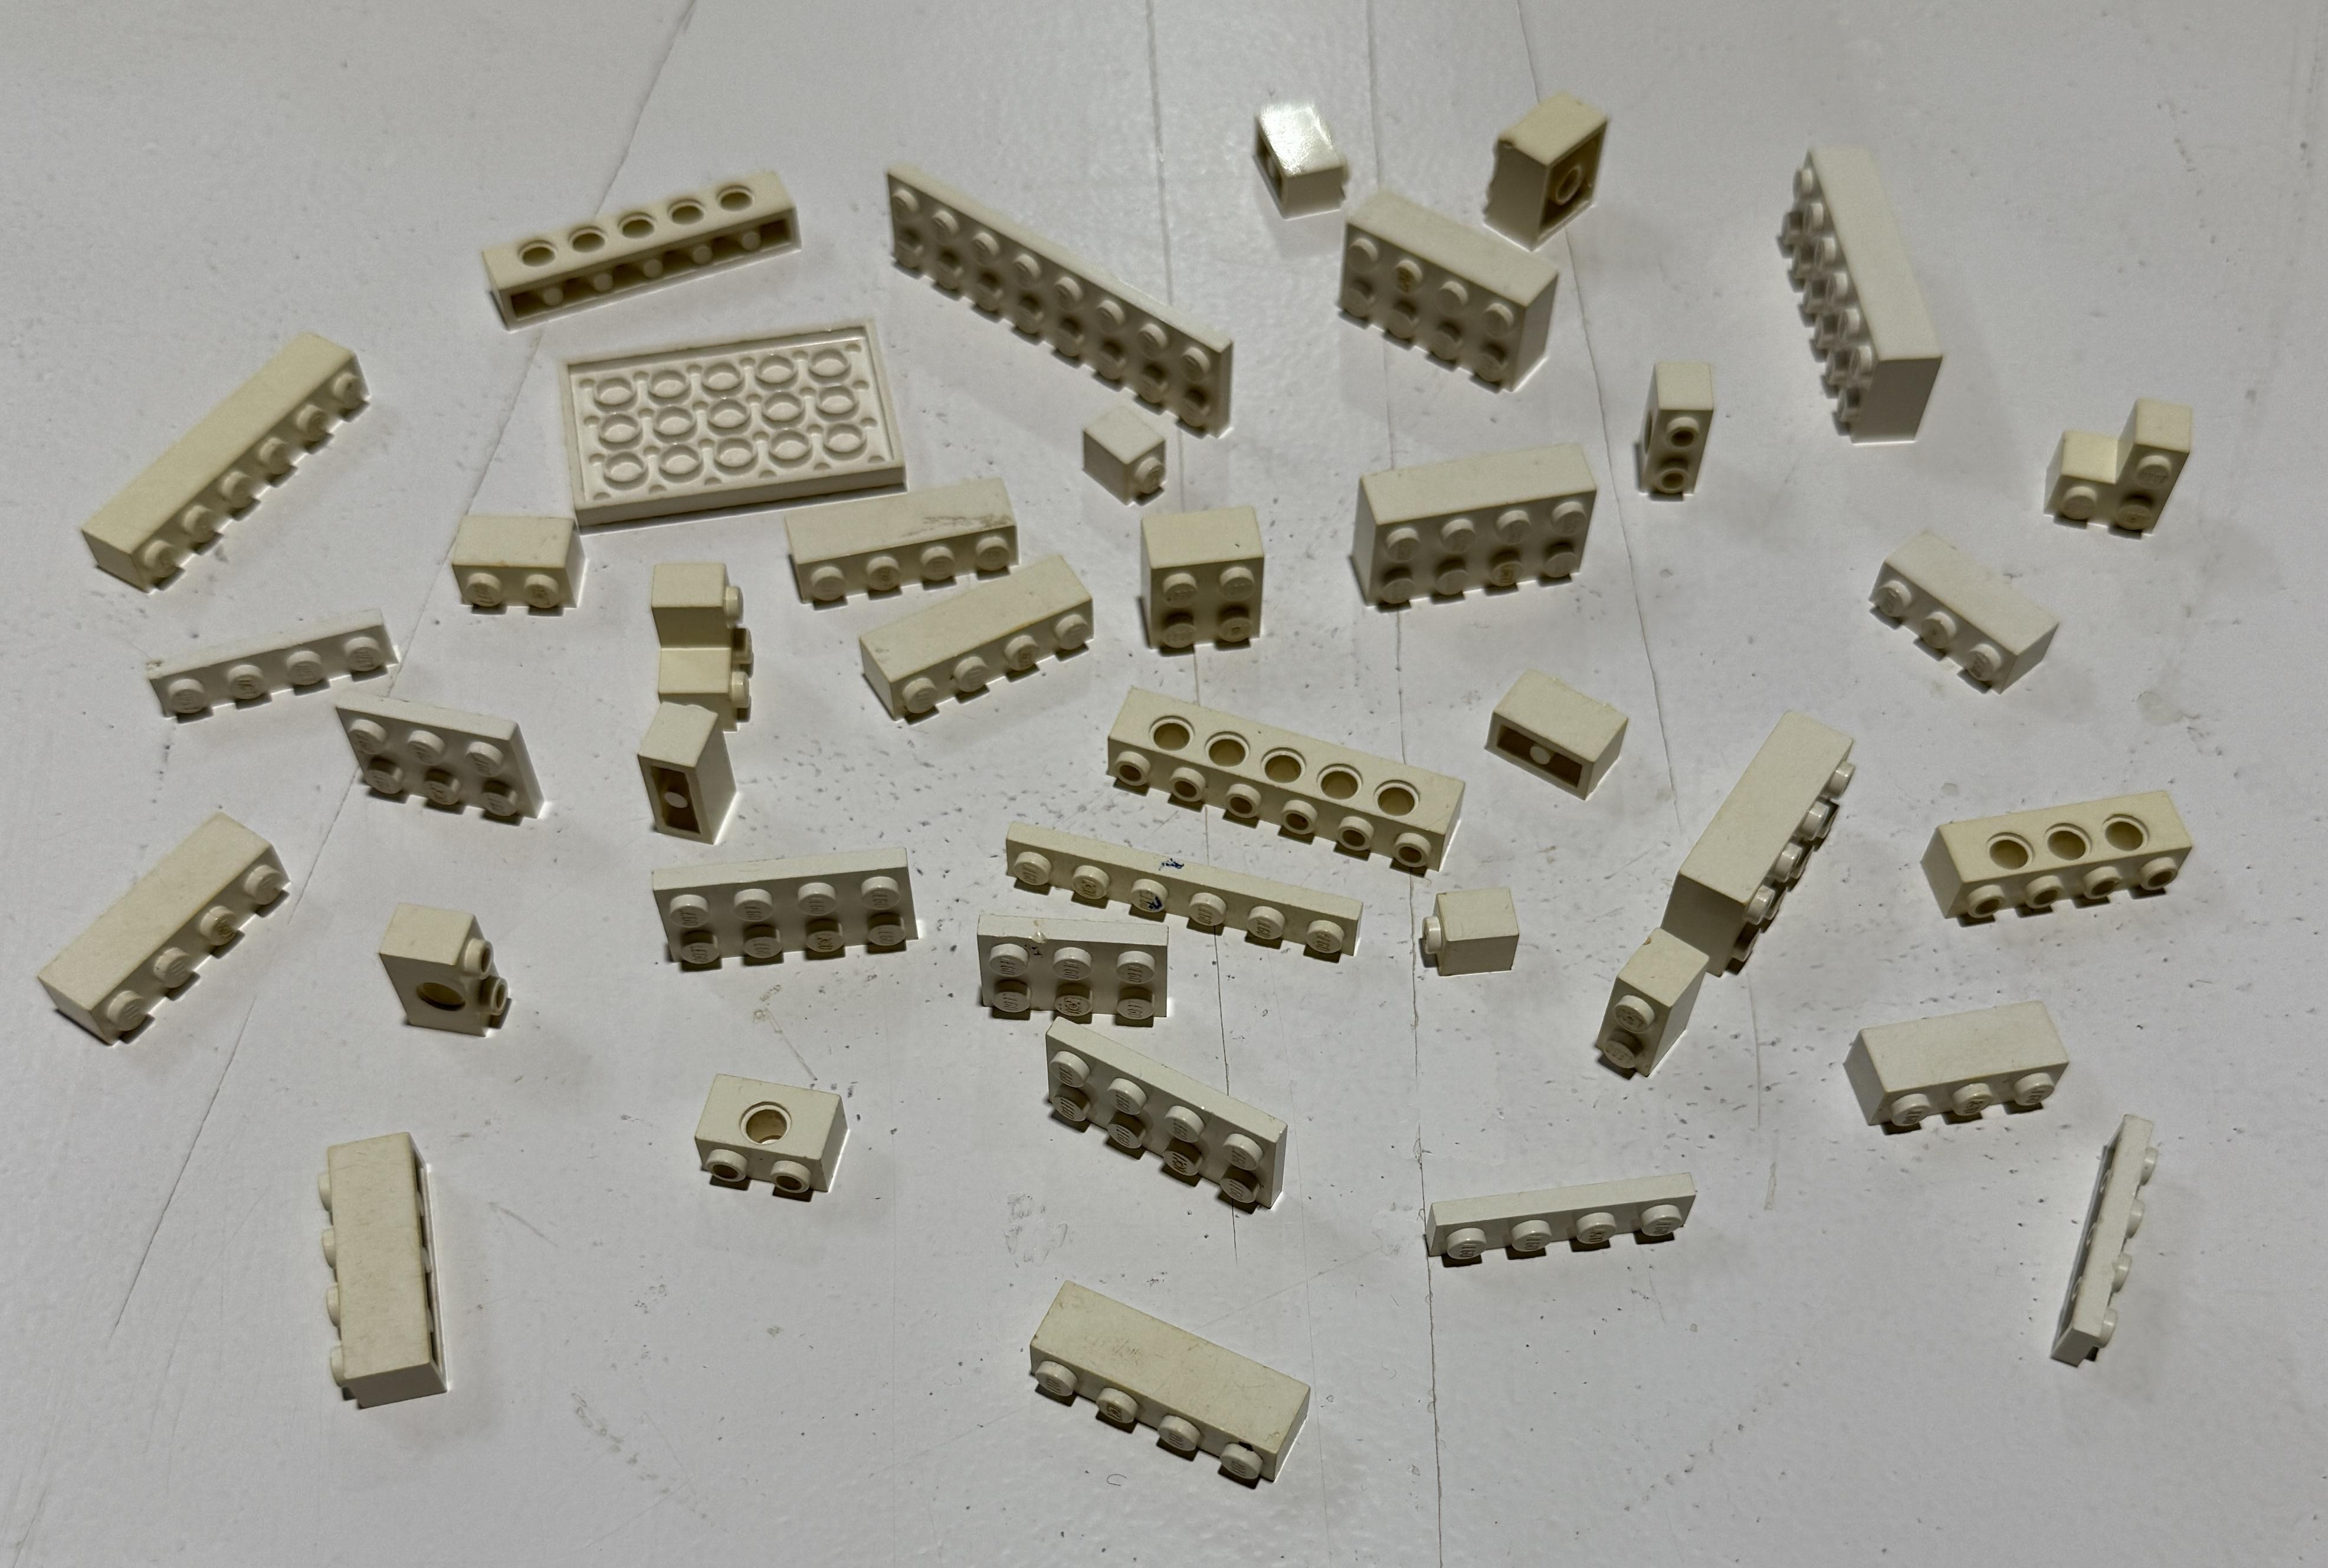brick_1x1: (1399, 870, 1547, 1003), (1062, 390, 1185, 513)
brick_1x2: (347, 882, 558, 1074), (1560, 917, 1731, 1127), (672, 1050, 880, 1213), (1462, 653, 1647, 807), (616, 688, 777, 857), (1190, 75, 1362, 226), (445, 494, 599, 632), (1619, 341, 1742, 507)
brick_1x3: (1833, 504, 2079, 719), (1829, 976, 2097, 1157)
brick_1x4: (989, 1255, 1327, 1509), (30, 787, 324, 1074), (298, 1113, 487, 1433), (845, 535, 1113, 749), (1911, 779, 2200, 955), (754, 451, 1040, 618)
brick_2x2: (1467, 75, 1642, 264), (1125, 476, 1281, 675)
brick_2x4: (1651, 700, 1875, 989), (1334, 425, 1612, 630), (1327, 178, 1567, 409)
